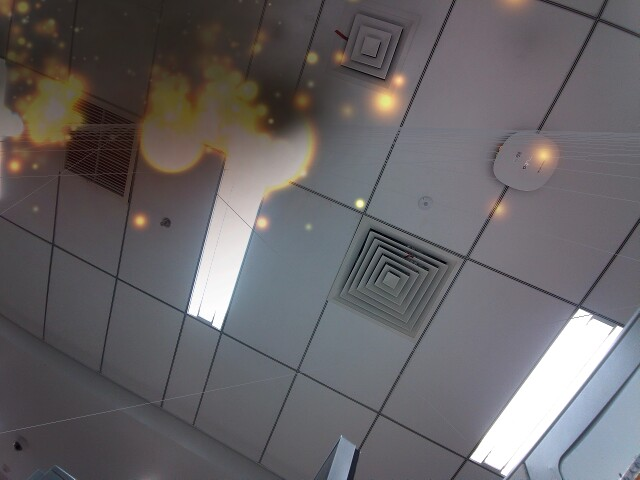fire: (231, 105, 317, 186), (138, 111, 205, 173)
